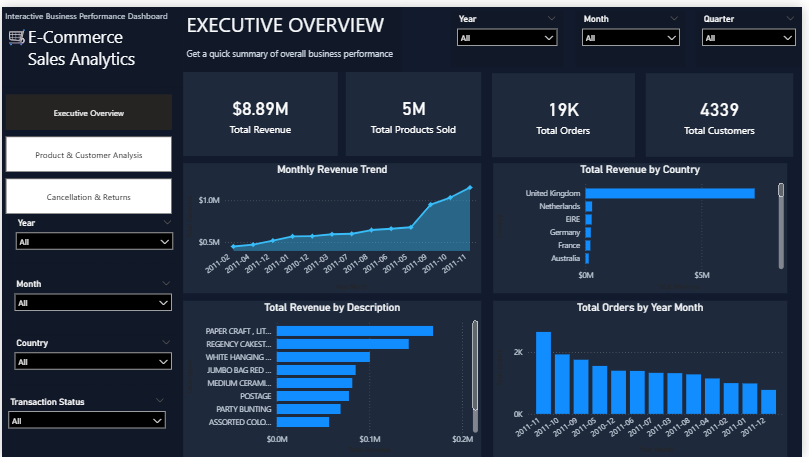

What the dashboard file says about the page in this screenshot:
{"tool":"powerbi","page":{"name":"Executive Overview","canvas":[1280,720],"ordinal":0},"visuals":[{"type":"shape","box":[0,0,289.8,720.4],"z":0},{"type":"textbox","box":[0,0,289.8,128.6],"z":1000},{"type":"textbox","box":[290,0,350,104],"z":2000},{"type":"slicer","fields":{"Values":["Date Table.Year"]},"box":[718.2,5.5,180,90],"z":3000},{"type":"slicer","fields":{"Values":["Date Table.Month"]},"box":[917.3,6.4,176.4,90],"z":4000},{"type":"slicer","fields":{"Values":["Date Table.Quarter"]},"box":[1110,6.7,170,90],"z":5000},{"type":"card","title":"Total Revenue ","fields":{"Values":["Measures_.Total Revenue"]},"box":[290,104.3,247.1,134.3],"z":6000},{"type":"card","title":"Total Revenue ","fields":{"Values":["Measures_.Total Products Sold"]},"box":[550,104.3,217.1,134.3],"z":7000},{"type":"card","title":"Total Revenue ","fields":{"Values":["Measures_.Total Orders"]},"box":[784.3,105.7,228.6,134.3],"z":8000},{"type":"card","title":"Total Revenue ","fields":{"Values":["Measures_.Total Customers"]},"box":[1030,106.2,236.2,133.8],"z":9000},{"type":"areaChart","title":"Monthly Revenue Trend","fields":{"Category":["Date Table.Year Month"],"Y":["Measures_.Total Revenue"]},"box":[290,250,476.7,208.3],"z":10000},{"type":"clusteredBarChart","fields":{"Category":["online_retail.Country"],"Y":["Measures_.Total Revenue"]},"box":[785,250,470,208.3],"z":11000},{"type":"clusteredBarChart","fields":{"Category":["online_retail.Description"],"Y":["Measures_.Total Revenue"]},"box":[290,470,476.7,250],"z":12000},{"type":"clusteredColumnChart","fields":{"Category":["Date Table.Year Month"],"Y":["Measures_.Total Orders"]},"box":[785,470,470,250],"z":13000},{"type":"slicer","fields":{"Values":["Date Table.Year"]},"box":[11.2,332.5,271.2,78.8],"z":13001},{"type":"slicer","fields":{"Values":["Date Table.Month"]},"box":[10,430,271.2,80],"z":13002},{"type":"slicer","fields":{"Values":["online_retail.Country"]},"box":[10,523.8,271.2,80],"z":13003},{"type":"slicer","fields":{"Values":["online_retail.Transaction Status"]},"box":[0,617.5,271.2,85],"z":13004},{"type":"pageNavigator","box":[5,140,266.2,192.5],"z":13005}]}

Visuals, with their boxes in screenshot pixels (x1, y1, x2, y2), scaled from the page's 1280x720 canvas onto the 809x457 screenshot:
shape: Rect(0, 0, 183, 456)
textbox: Rect(0, 0, 183, 82)
textbox: Rect(183, 0, 404, 66)
slicer - Date Table.Year: Rect(454, 3, 568, 61)
slicer - Date Table.Month: Rect(580, 4, 691, 61)
slicer - Date Table.Quarter: Rect(702, 4, 808, 61)
"Total Revenue " card: Rect(183, 66, 339, 151)
"Total Revenue " card: Rect(348, 66, 485, 151)
"Total Revenue " card: Rect(496, 67, 640, 152)
"Total Revenue " card: Rect(651, 67, 800, 152)
"Monthly Revenue Trend" areaChart: Rect(183, 159, 485, 291)
clusteredBarChart - online_retail.Country x Measures_.Total Revenue: Rect(496, 159, 793, 291)
clusteredBarChart - online_retail.Description x Measures_.Total Revenue: Rect(183, 298, 485, 456)
clusteredColumnChart - Date Table.Year Month x Measures_.Total Orders: Rect(496, 298, 793, 456)
slicer - Date Table.Year: Rect(7, 211, 178, 261)
slicer - Date Table.Month: Rect(6, 273, 178, 324)
slicer - online_retail.Country: Rect(6, 332, 178, 383)
slicer - online_retail.Transaction Status: Rect(0, 392, 171, 446)
pageNavigator: Rect(3, 89, 171, 211)
